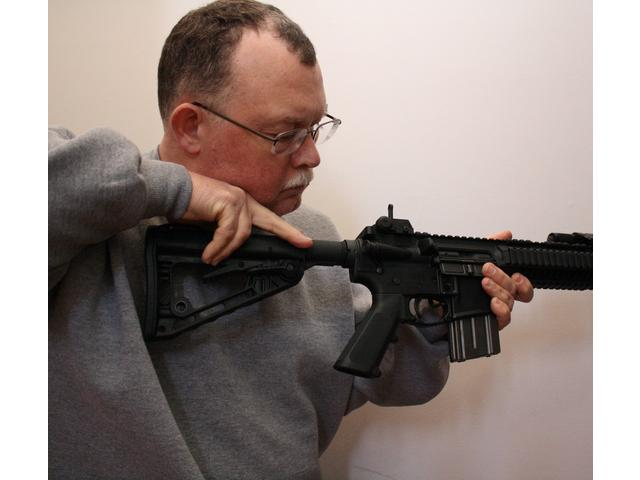rifle: (139, 208, 593, 380)
